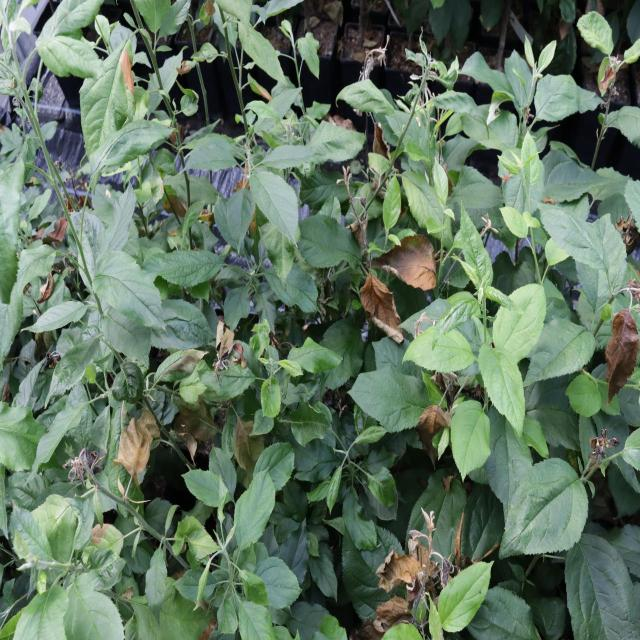-FireBlight-: (346, 213, 436, 336), (369, 528, 468, 618), (603, 280, 640, 402), (122, 418, 156, 492)
